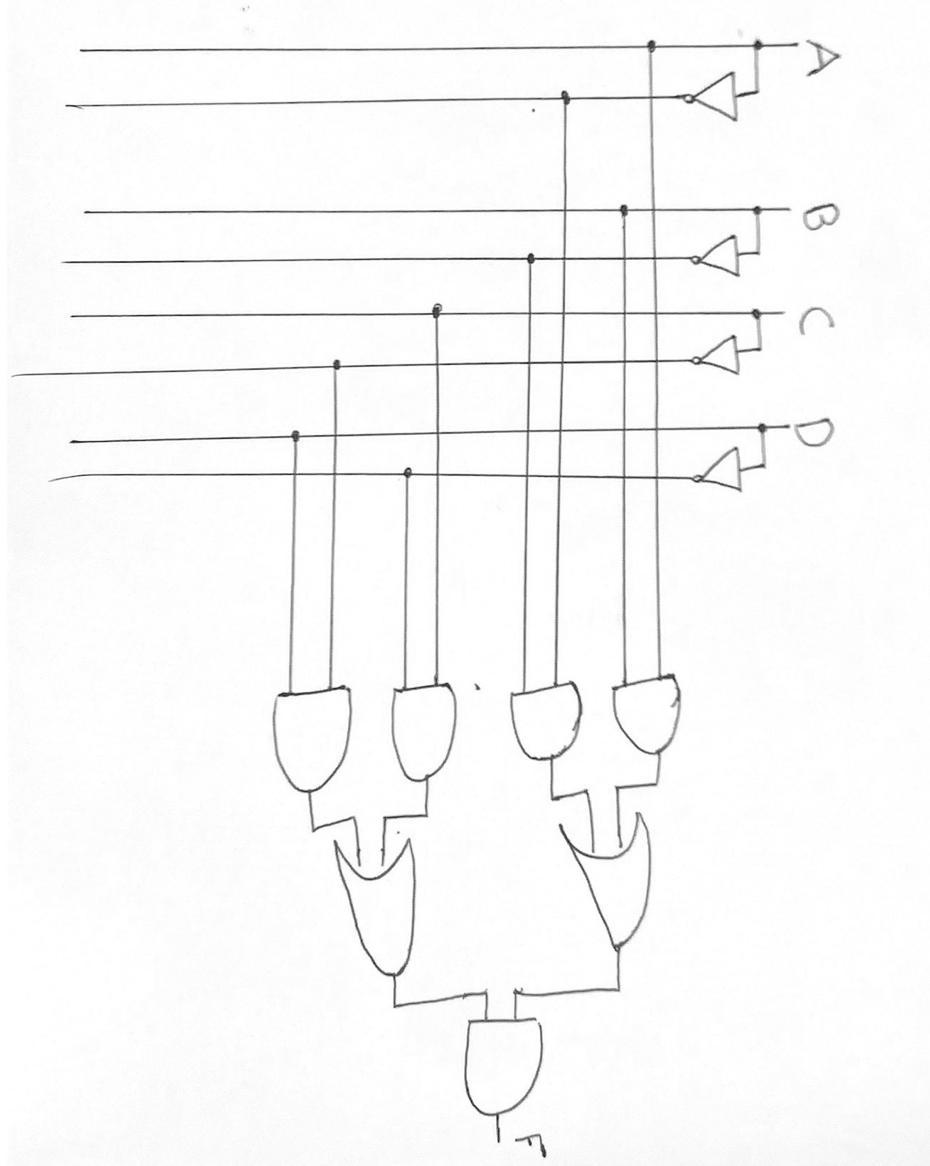AND: (450, 1010, 569, 1127), (257, 683, 365, 802), (382, 665, 475, 792), (604, 652, 692, 764), (500, 677, 592, 771)
NOT: (680, 440, 756, 518), (678, 65, 759, 138), (682, 223, 753, 288), (678, 332, 754, 392)
OR: (542, 810, 702, 969), (302, 837, 453, 985)
